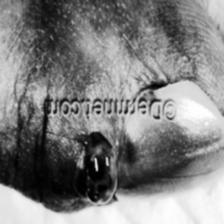Toxin: (68, 131, 130, 211)
